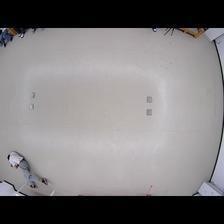fall: (5, 151, 49, 190)
